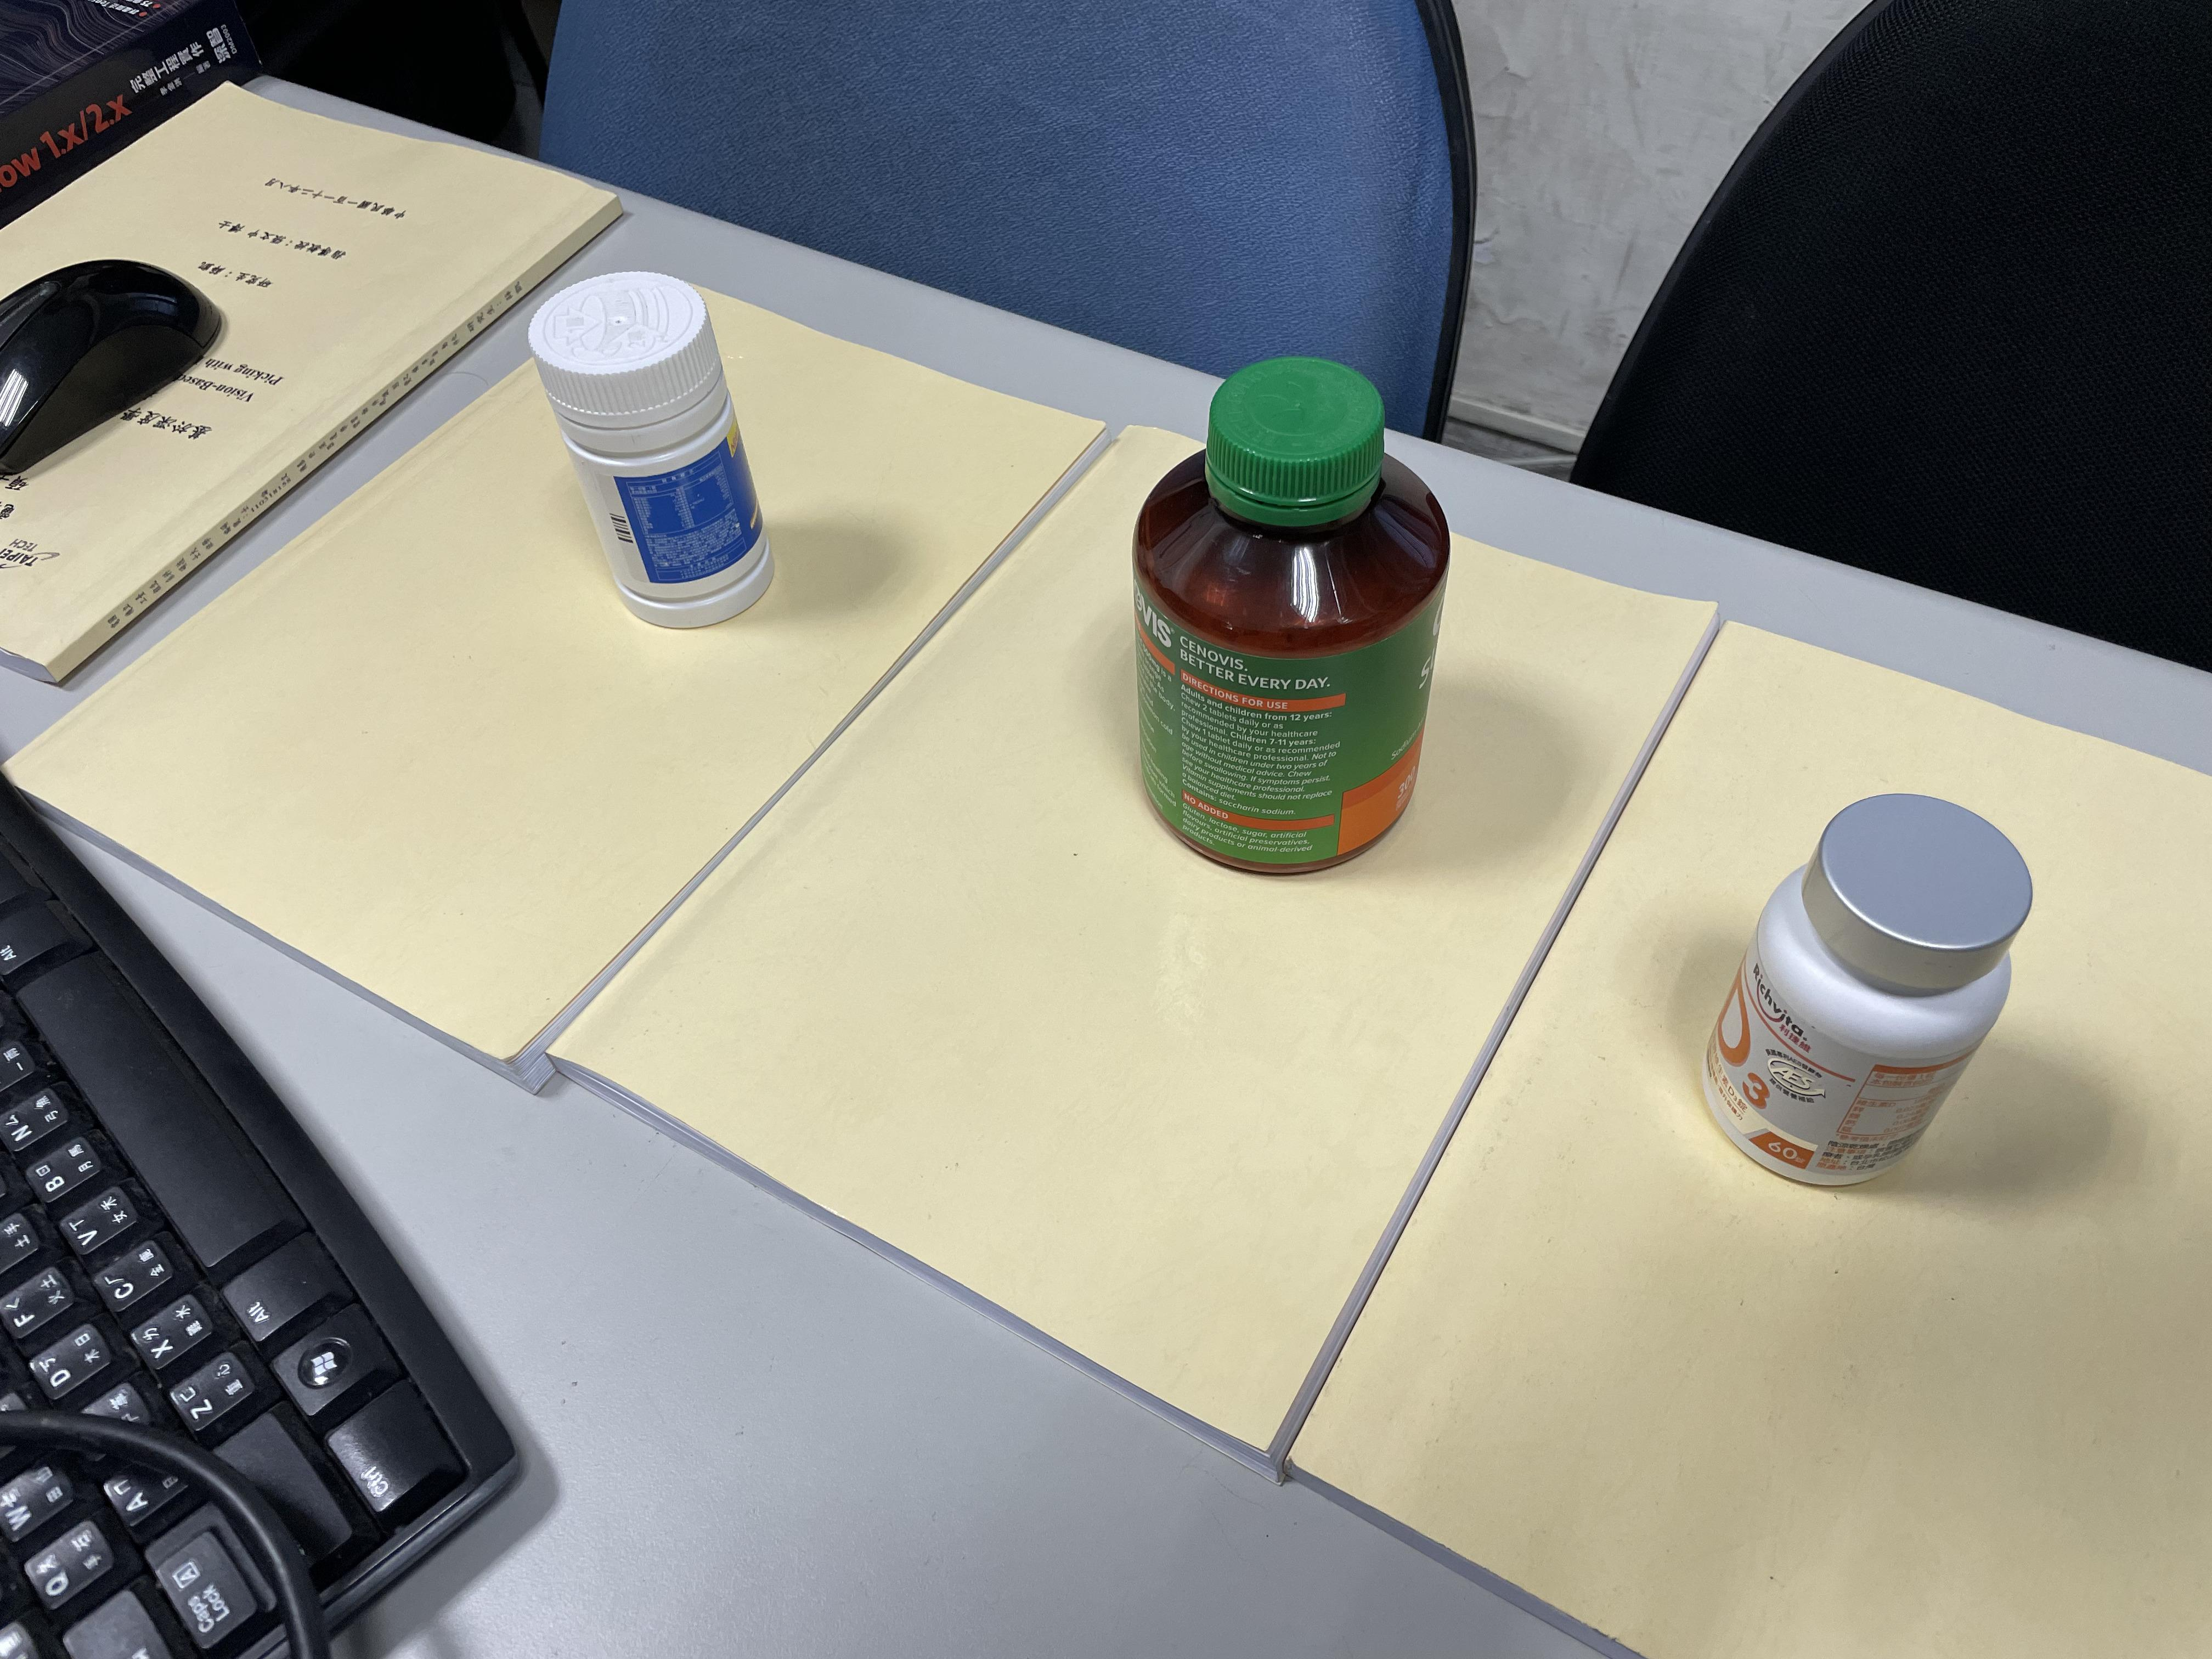jar: (1061, 378, 1487, 866), (1719, 782, 2024, 1215), (482, 291, 822, 634)
